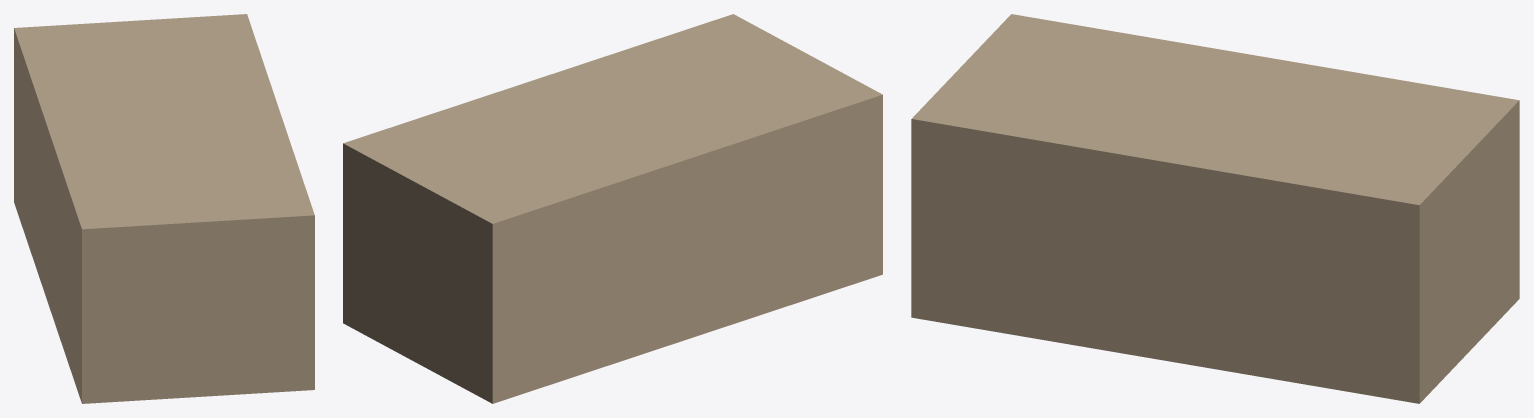
The model's file is bld_108400863.dae.
The picture shows the model from 3 angles, left to right: view 1: azimuth 30°, elevation 25°; view 2: azimuth 150°, elevation 25°; view 3: azimuth 270°, elevation 25°; orthographic projection. The views are drawn at different scales.
Visible parts, largest first — view 1: bld_108400863; view 2: bld_108400863; view 3: bld_108400863.
Boxes of the visible parts, x1,y1,x2,y2 form: bld_108400863: [14, 14, 314, 403]; bld_108400863: [343, 14, 882, 403]; bld_108400863: [911, 14, 1519, 403].
Size of the model in its own units: 16.51 by 22.18 by 8.
